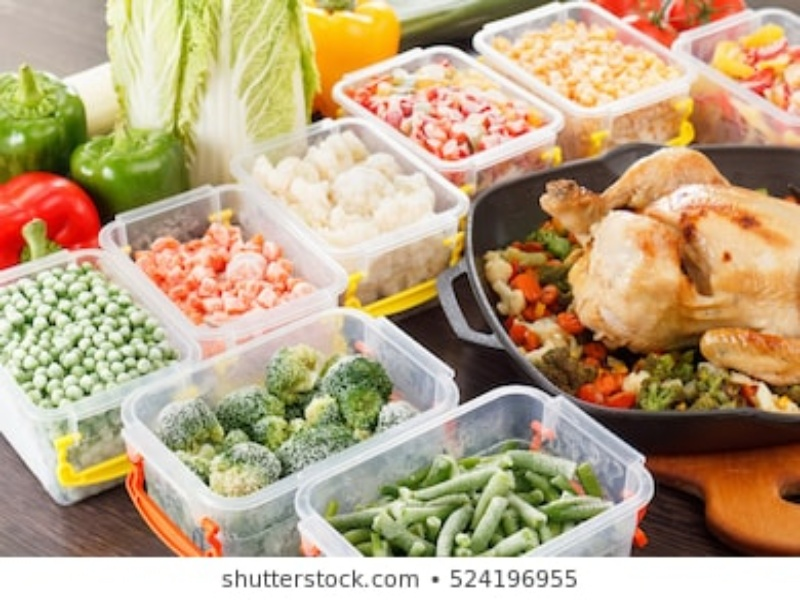plastic-container: (116, 307, 459, 558), (290, 384, 659, 557), (1, 247, 199, 504), (223, 113, 468, 317), (100, 179, 352, 340), (329, 42, 562, 192), (472, 2, 699, 150), (672, 6, 800, 145)
